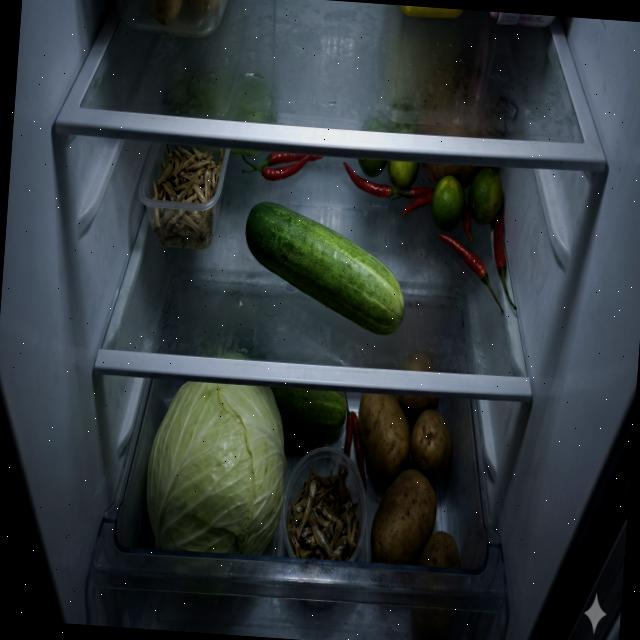anchovies: (284, 457, 364, 563), (147, 144, 224, 252)
cabbage: (140, 376, 292, 562)
chili: (430, 194, 525, 318), (338, 160, 434, 222), (241, 149, 323, 185)
cucumber: (239, 201, 413, 341), (268, 386, 348, 435)
lime: (466, 166, 504, 226), (430, 174, 466, 234), (356, 158, 420, 190)
potato: (348, 391, 472, 569)
